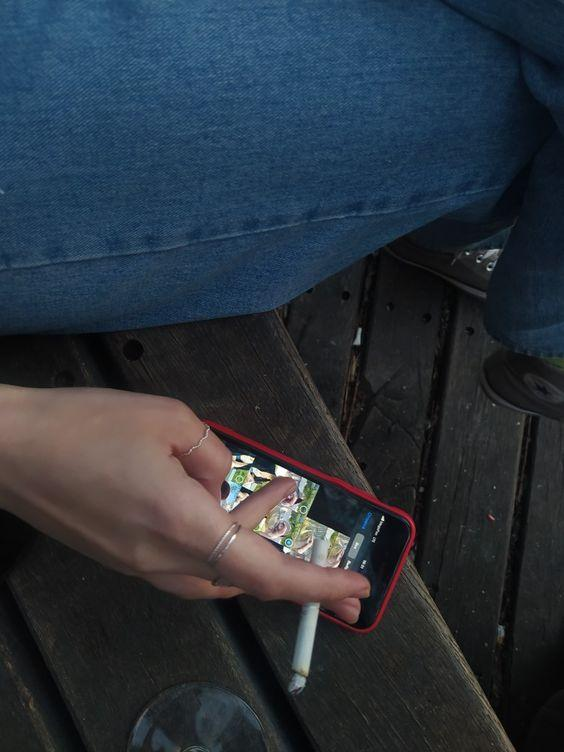cigarette: (287, 538, 329, 696)
